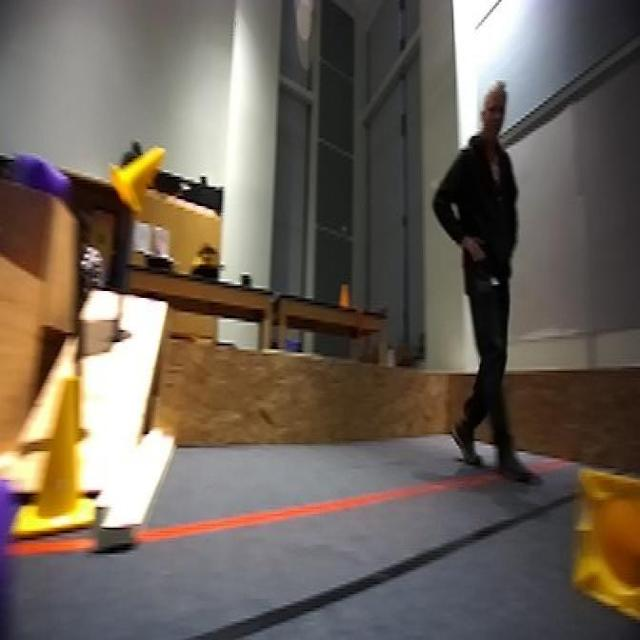frc_cone: (29, 366, 98, 533), (573, 466, 640, 628), (105, 138, 162, 219)
frc_cube: (10, 145, 74, 201), (0, 478, 20, 638)
